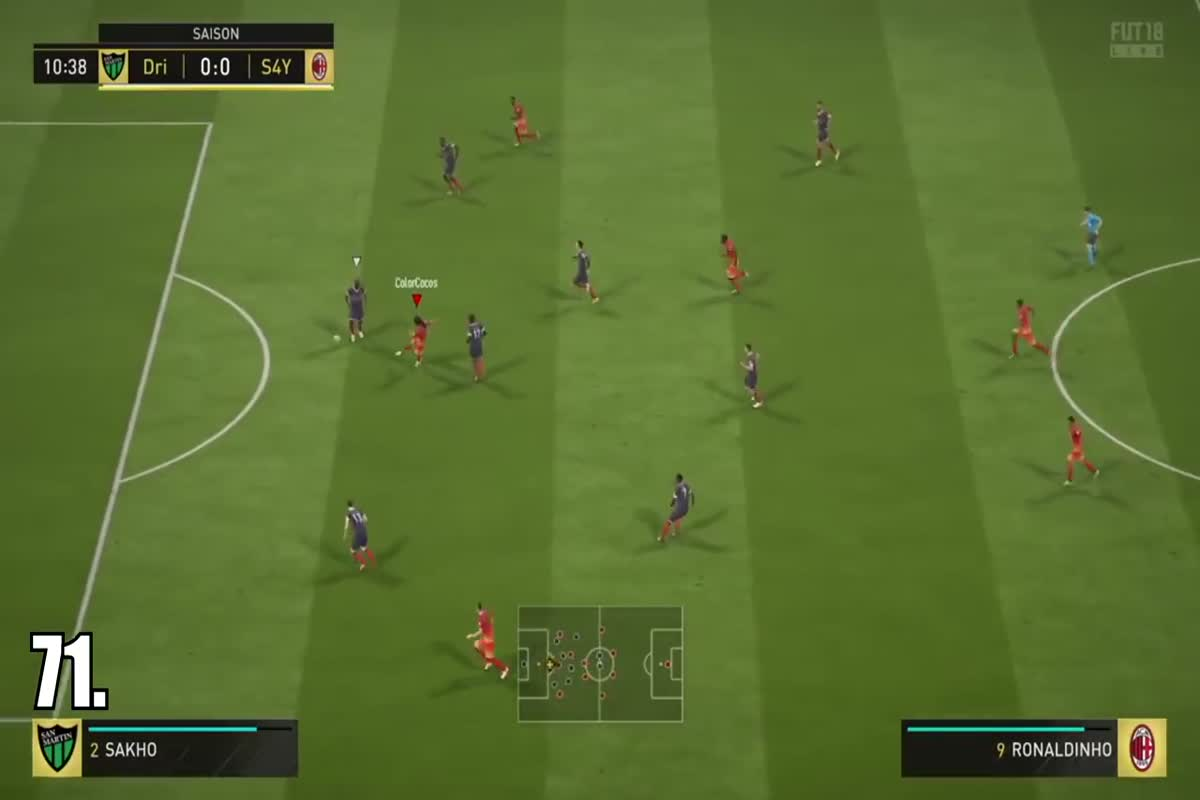ball: (320, 327, 348, 349)
